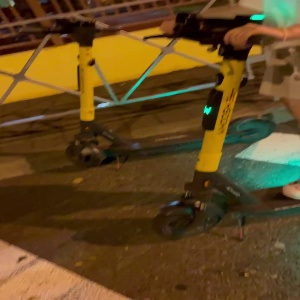human on a scooter: (145, 1, 300, 242)
